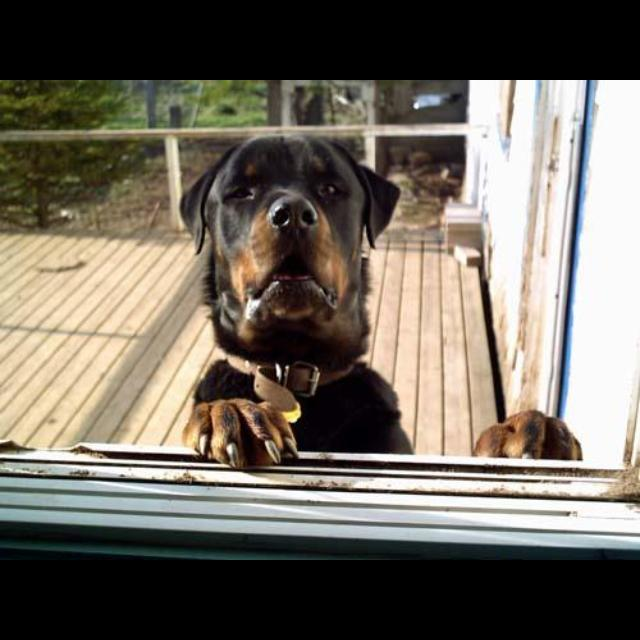rottweiler: (181, 137, 583, 470)
